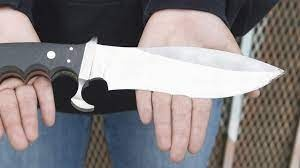knife: (1, 36, 286, 114)
